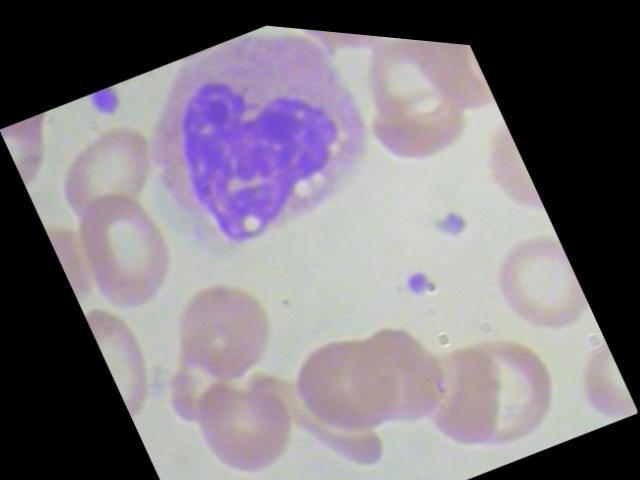Platelets: (80, 77, 133, 129), (427, 185, 477, 238), (395, 248, 440, 298)
Red Blood Cells: (431, 300, 576, 460), (52, 164, 191, 326), (463, 204, 597, 352), (324, 295, 458, 443), (279, 308, 412, 456), (351, 50, 488, 191), (36, 99, 172, 240), (154, 258, 289, 399), (174, 345, 309, 479), (281, 21, 414, 76), (241, 443, 384, 479)
White Blood Cells: (111, 9, 415, 292)
